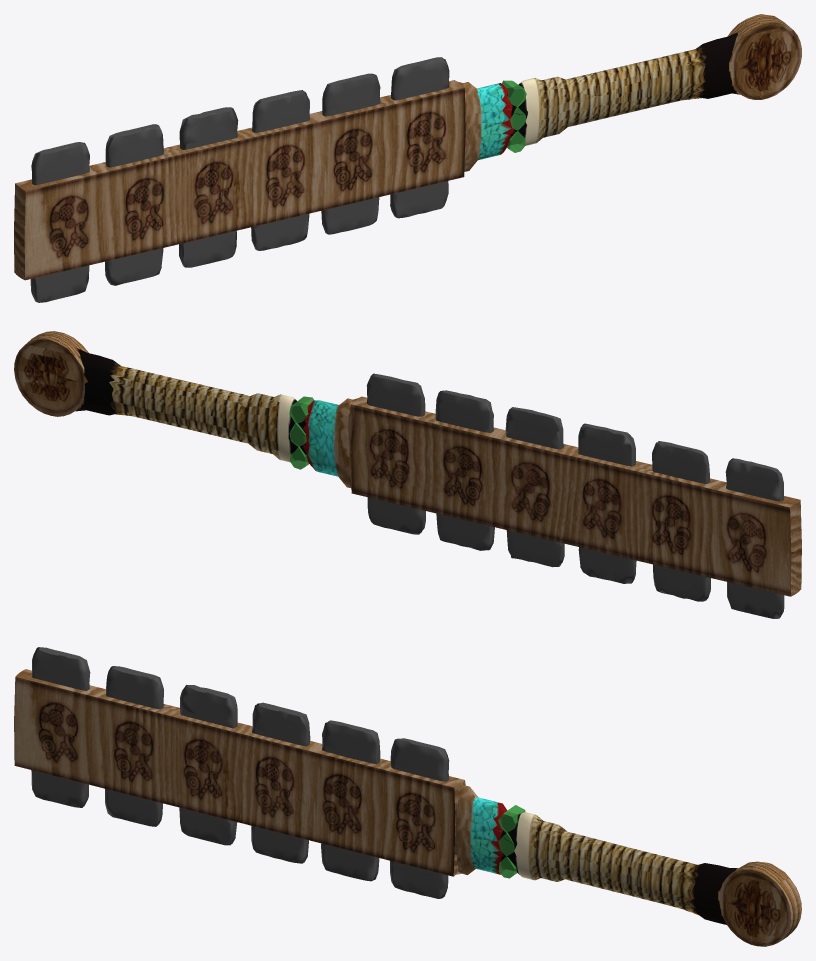
File: Macuahuitl.glb
3 renders of one model, top to bottom at view 1: azimuth 30°, elevation 25°; view 2: azimuth 150°, elevation 25°; view 3: azimuth 330°, elevation 25°, orthographic.
Visible parts, largest first — view 1: Object_4; view 2: Object_4; view 3: Object_4.
Boxes of the visible parts, bbox=[...] form: Object_4: bbox=[14, 14, 801, 302]; Object_4: bbox=[14, 331, 801, 618]; Object_4: bbox=[14, 647, 801, 946].
Size of the model in its own units: 3.56 by 0.6697 by 0.0968.
3 materials, 1 textured.
